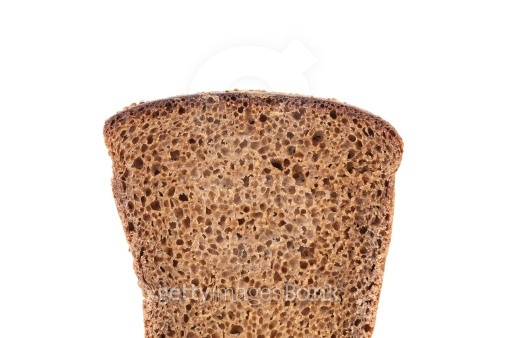slice of bread: (102, 81, 404, 338)
